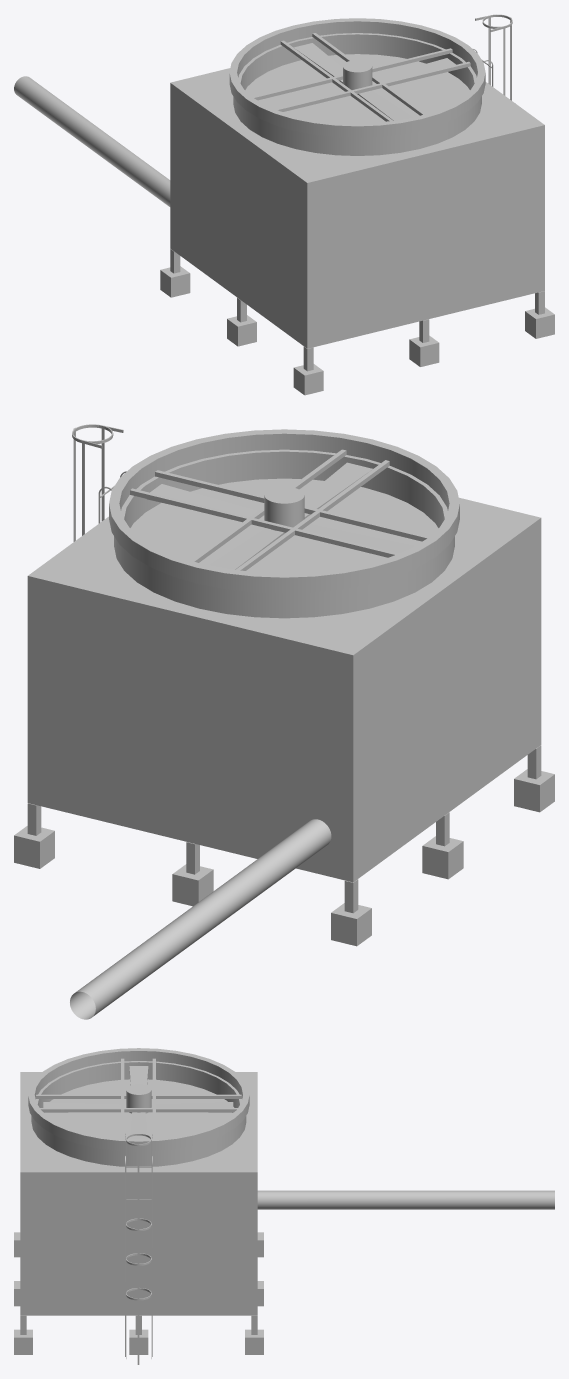
Rendered from lengqueta3.obj.
The picture shows the model from 3 angles, top to bottom: view 1: azimuth 30°, elevation 25°; view 2: azimuth 150°, elevation 25°; view 3: azimuth 270°, elevation 25°; orthographic projection. The views are drawn at different scales.
Bounding box in the file's own units: 880 × 779 × 1711.
